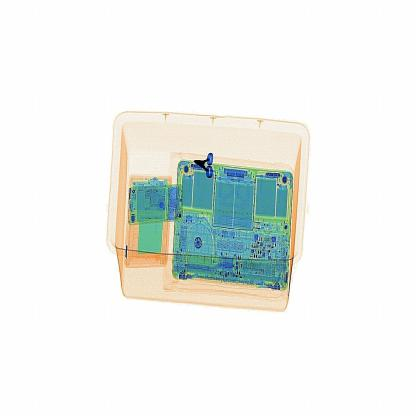gun: (191, 141, 220, 187)
